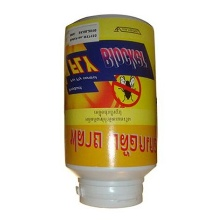insecticide: (58, 10, 161, 211)
